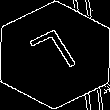L_SE: (26, 25, 84, 85)
